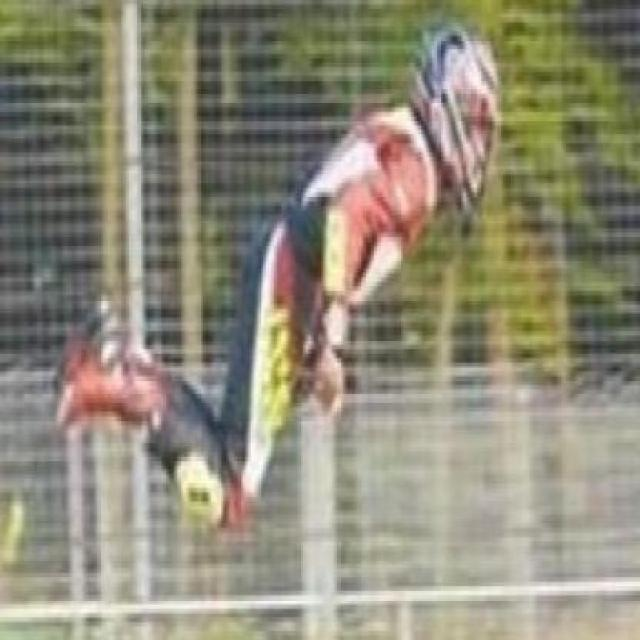fall: (47, 16, 502, 532)
